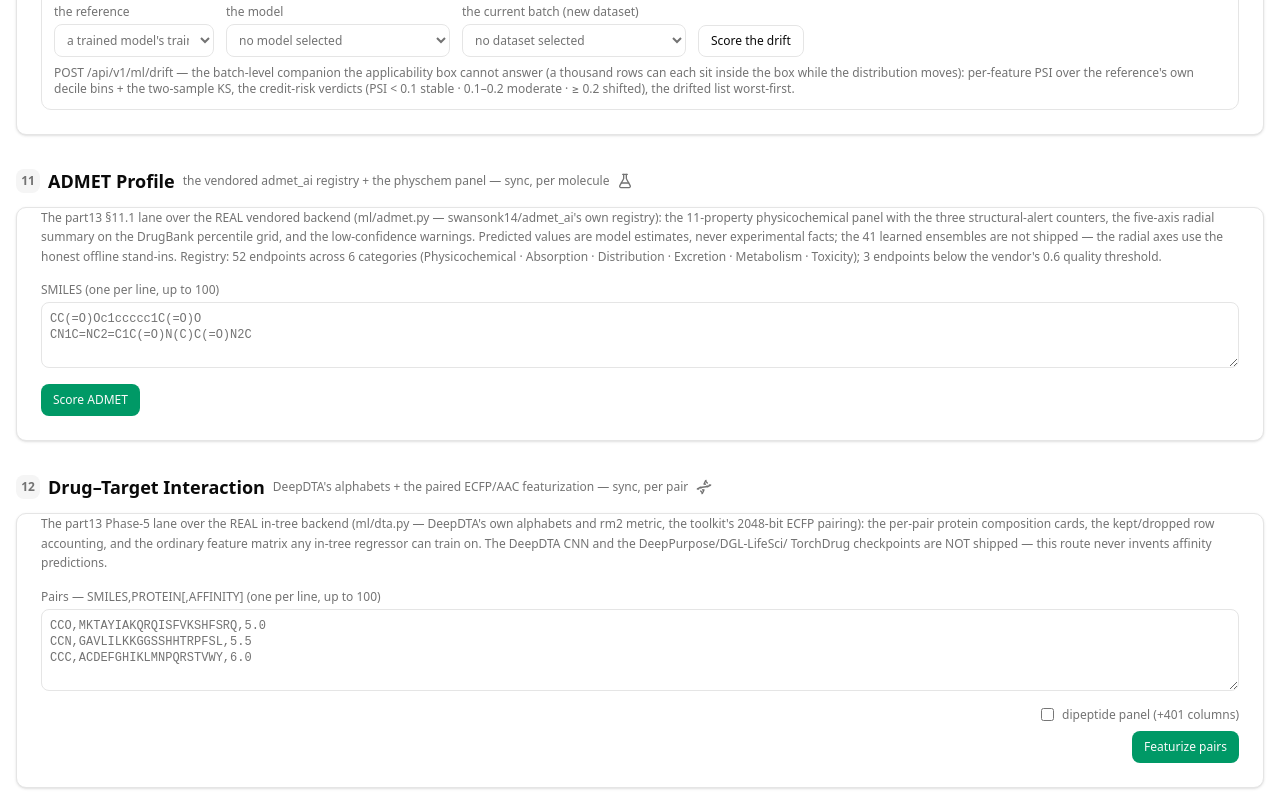
Test: the ADMET lane of the Machine Learning workspace › scores the textarea's SMILES and renders the per-molecule cards
The image size is (1280, 800).
(page scrolled)
Click the button "Score ADMET".
click(90, 400)  # box 41,384 -> 140,416
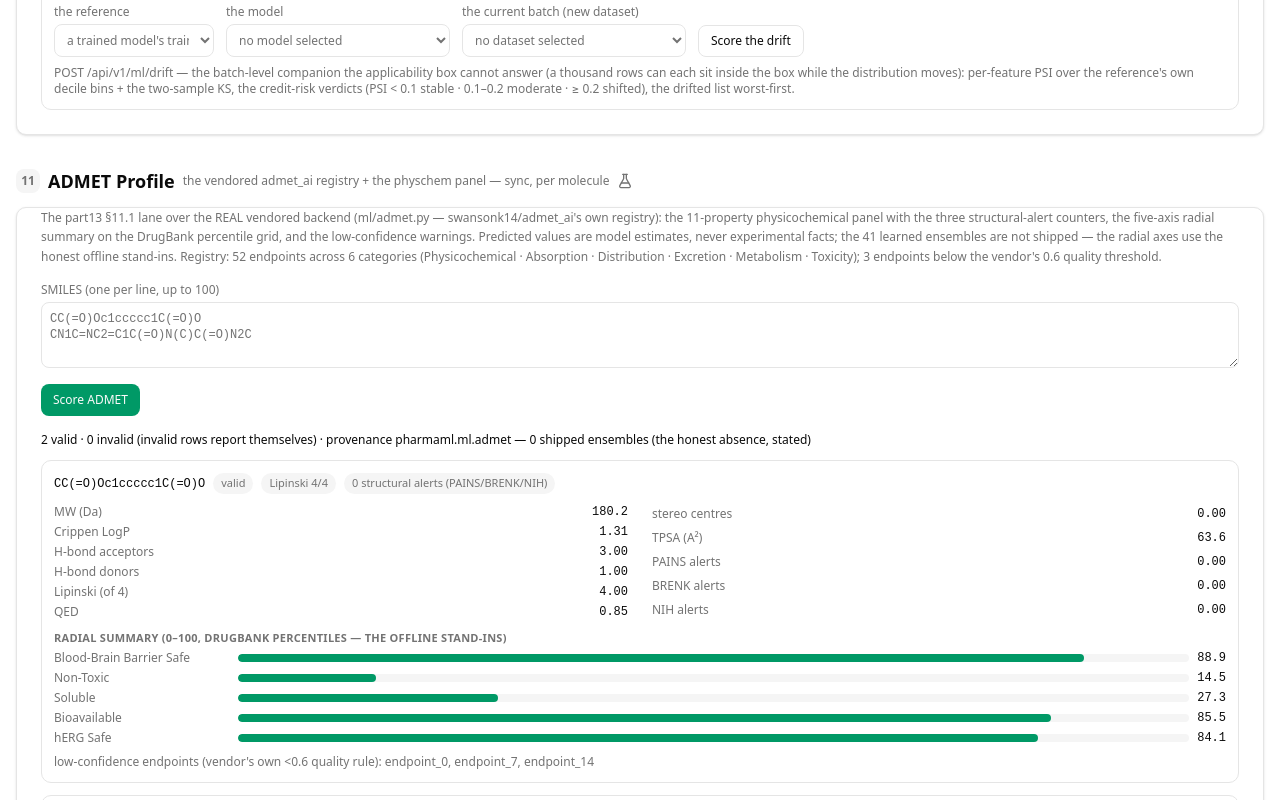
Check: the text "MW (Da)" is shown 2 times
Check: the text "Crippen LogP" is shown 2 times
Check: the text "Blood-Brain Barrier Safe" is shown 2 times
